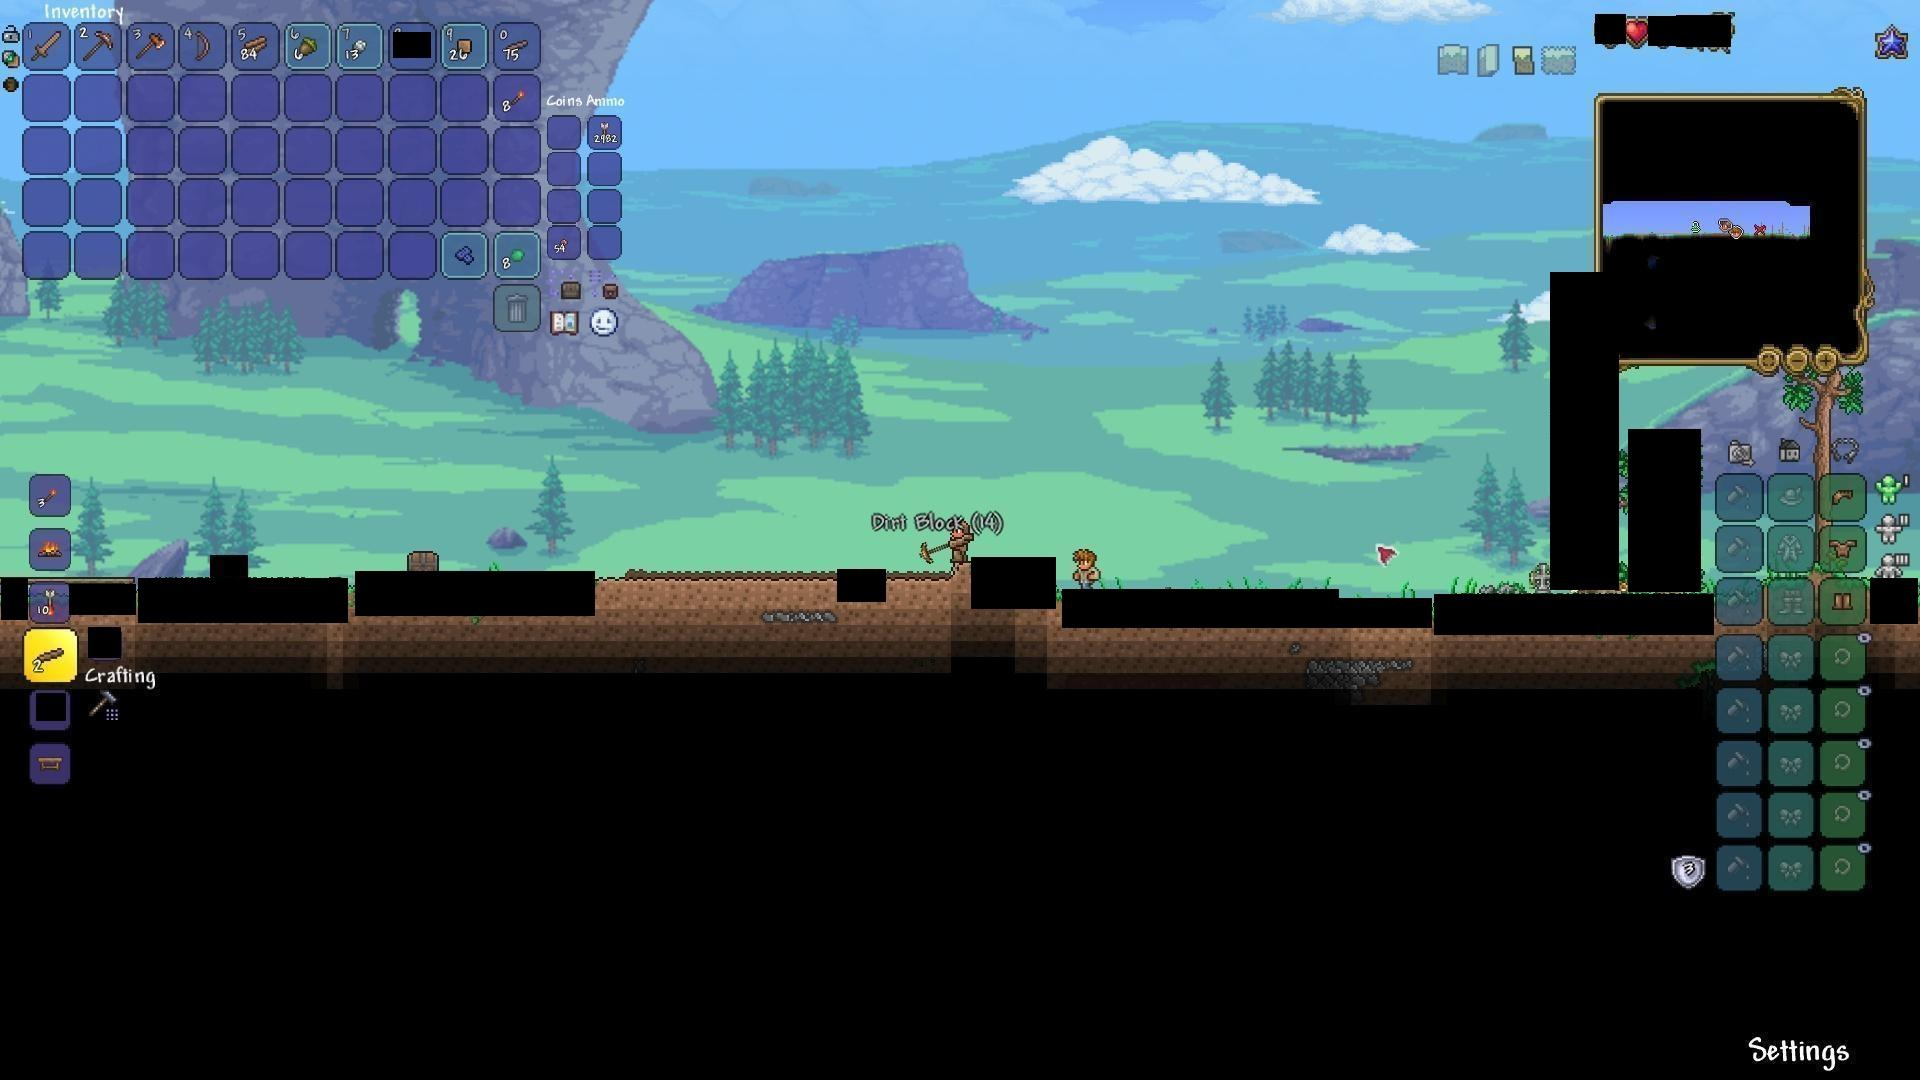breastplate: (1829, 539, 1859, 559)
heart: (1625, 17, 1651, 46)
helmet: (1829, 485, 1858, 512)
legs: (1832, 588, 1857, 615)
wood: (243, 33, 272, 61)
workbench: (36, 752, 67, 775)
